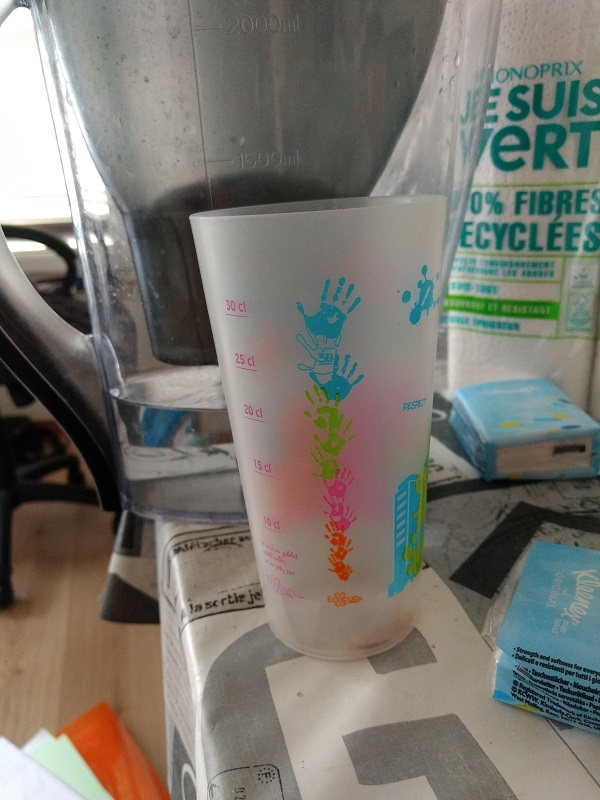ecocup: (189, 195, 450, 663)
